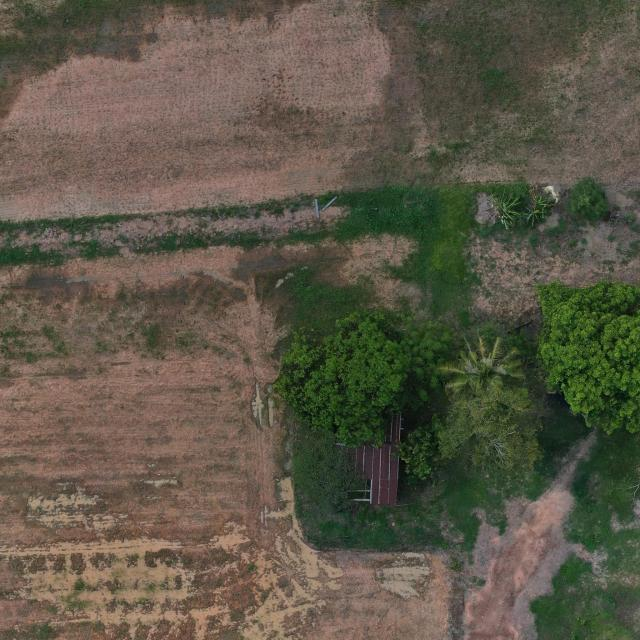Tree: (270, 310, 410, 448), (534, 278, 640, 435), (435, 389, 543, 475), (436, 333, 528, 409), (286, 438, 370, 514), (391, 424, 439, 481)
